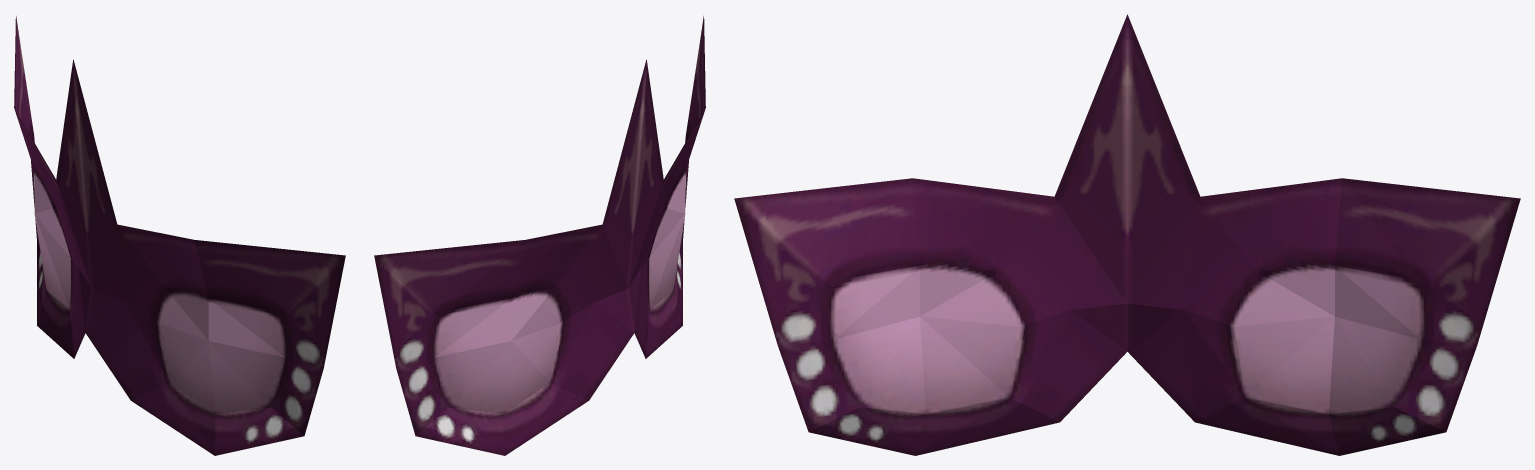
Rendered from Bat_illusionMask.obj.
3 views of the same model, side by side, from view 1: azimuth 30°, elevation 25°; view 2: azimuth 150°, elevation 25°; view 3: azimuth 270°, elevation 25° (orthographic). The views are drawn at different scales.
Parts seen in each view (by area): view 1: Bat_illusionMask_tri; view 2: Bat_illusionMask_tri; view 3: Bat_illusionMask_tri.
Boxes of the visible parts, bbox=[...] form: Bat_illusionMask_tri: bbox=[14, 16, 345, 455]; Bat_illusionMask_tri: bbox=[374, 16, 705, 455]; Bat_illusionMask_tri: bbox=[734, 14, 1520, 455].
Bounding box in the file's own units: 0.0395 × 0.1212 × 0.21.
1 material, 1 textured.
